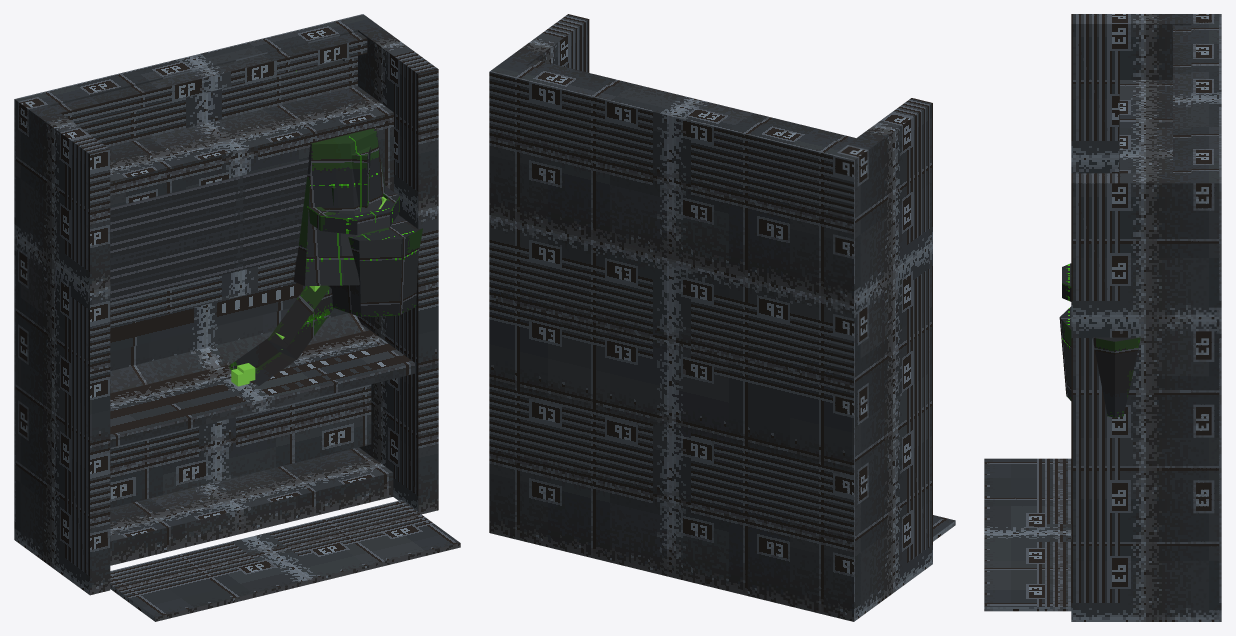
Rendered from eps_state_interpreted.glb.
3 renders of one model, left to right at view 1: azimuth 30°, elevation 25°; view 2: azimuth 150°, elevation 25°; view 3: azimuth 270°, elevation 25°, orthographic. The views are drawn at different scales.
Parts seen in each view (by area): view 1: eps_state_interpreted; view 2: eps_state_interpreted; view 3: eps_state_interpreted.
Part boxes in pixels (bbox=[...]): eps_state_interpreted: bbox=[14, 14, 460, 621]; eps_state_interpreted: bbox=[489, 14, 955, 621]; eps_state_interpreted: bbox=[984, 14, 1221, 621].
Size of the model in its own units: 2.46 by 2.9 by 1.42.
5 materials, 4 textured.
